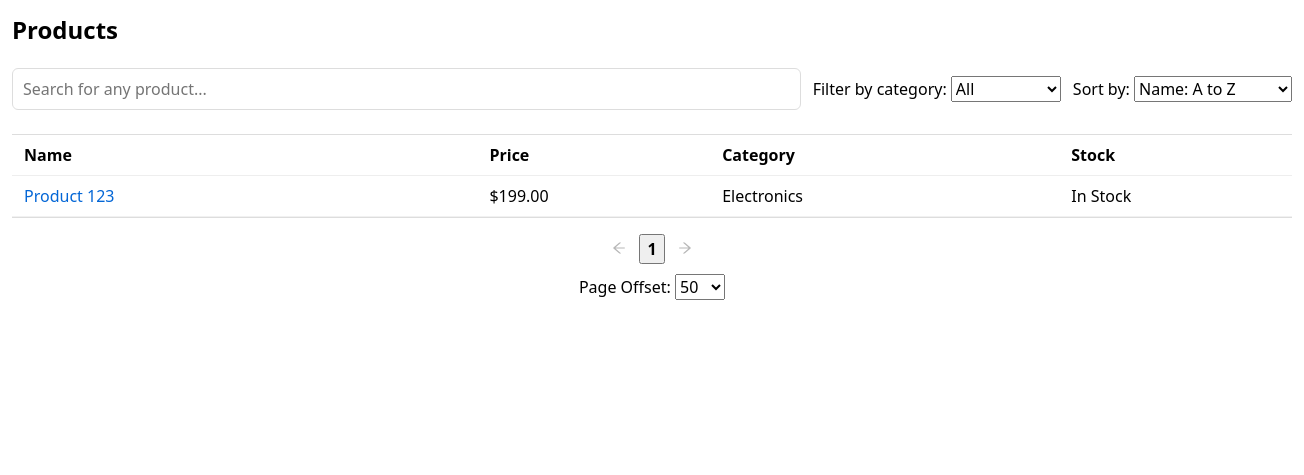
Product List - load, a11y, navigation › renders the list and navigates to product details
Expected: the table named "Products table" is shown, [12,135,1292,217]
// Click the known product link (fixture contains an item with id 123)
Click the link with test id "product-link-123" at (70, 196), box [24,185,115,207]
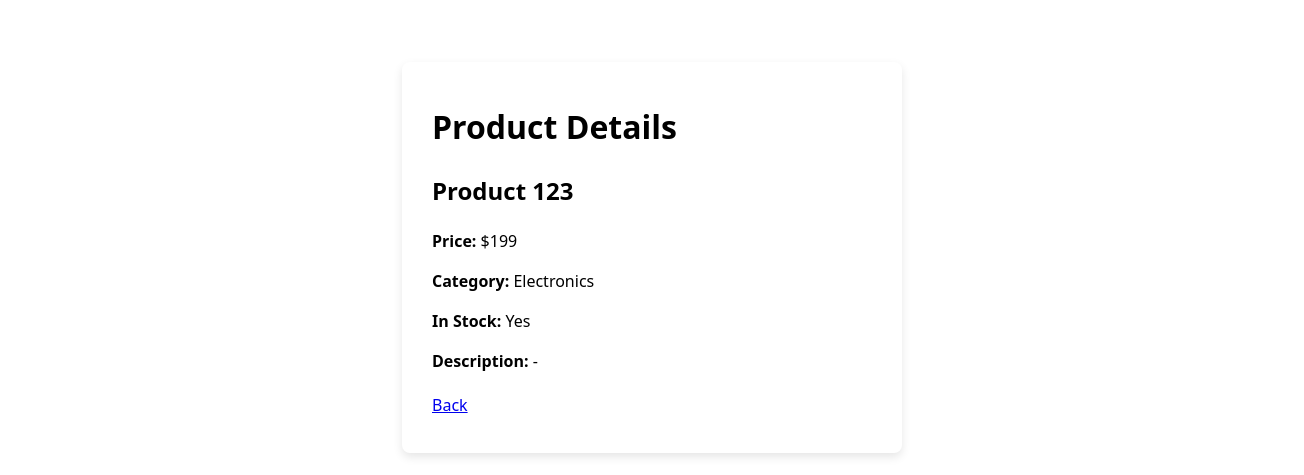
Expected: the text with test id "product-price" shows "$", [481,230,490,252]
Now the element with test id "product-info" that starts with "Product 123" is shown, box [432,174,594,372]
